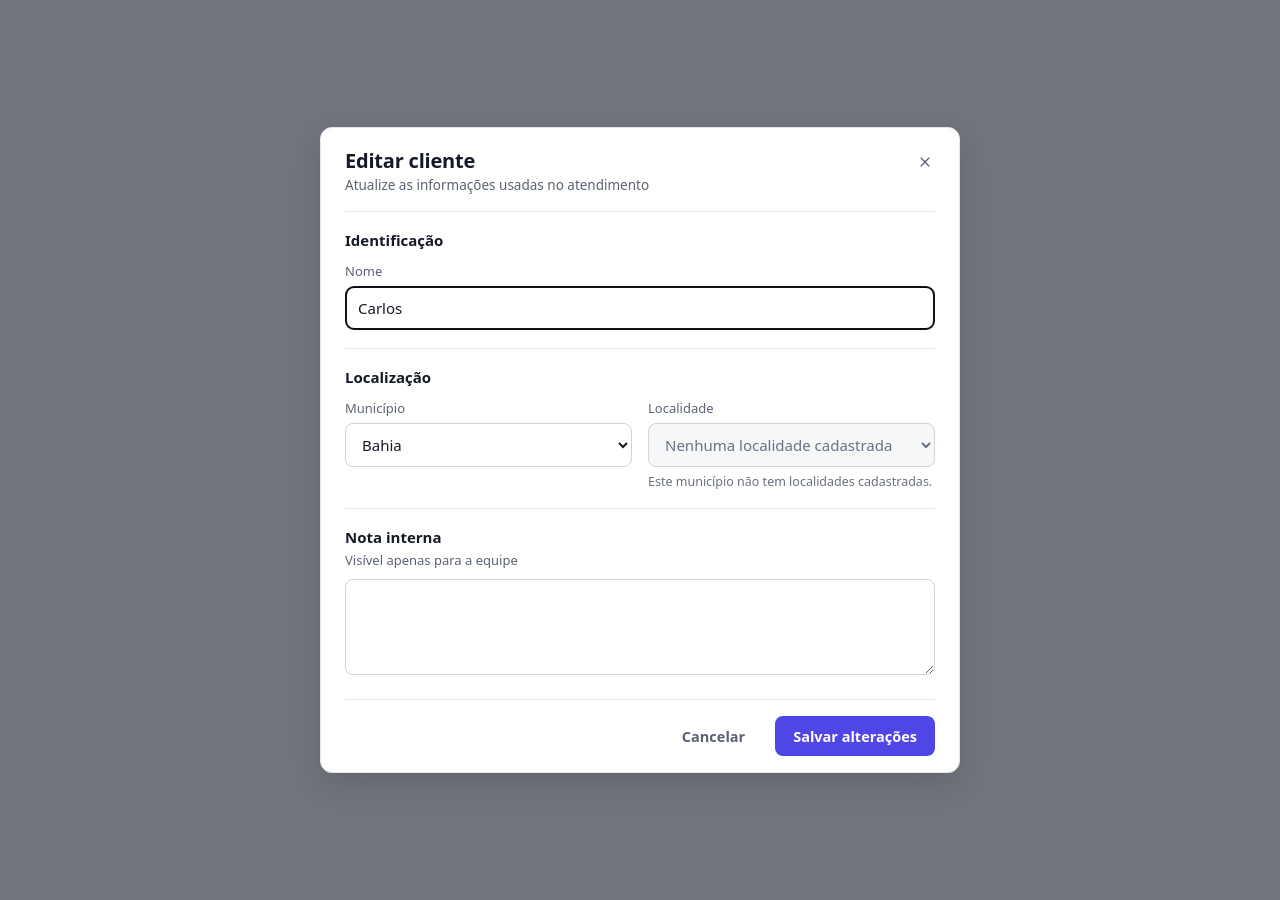
EditContactModal › shows an error message and keeps the modal open when saving fails
In the field labelled "Nome": (640, 308) [345,286,935,330], type " Silva"
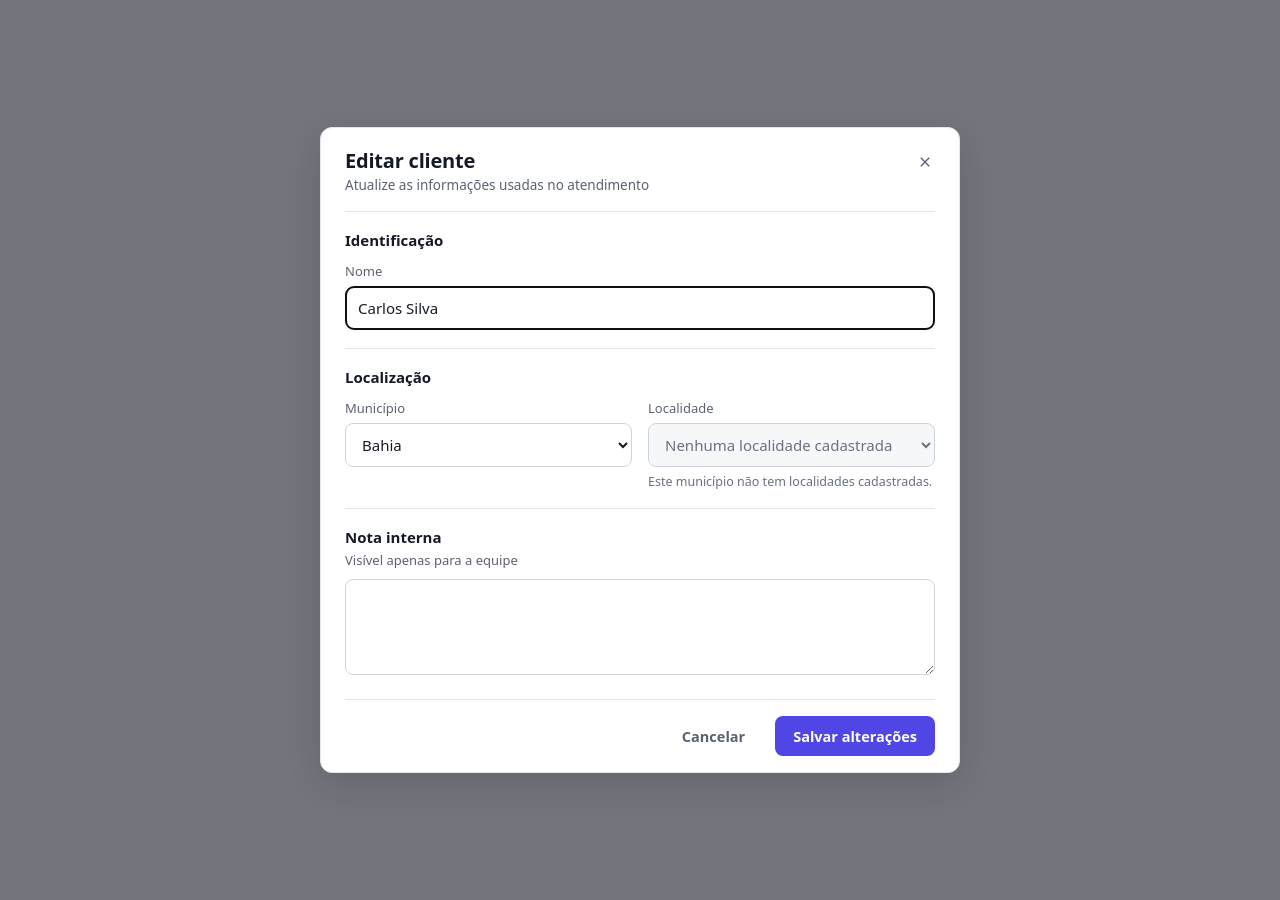
Click the button "Salvar alterações": (855, 736) [775,716,935,756]
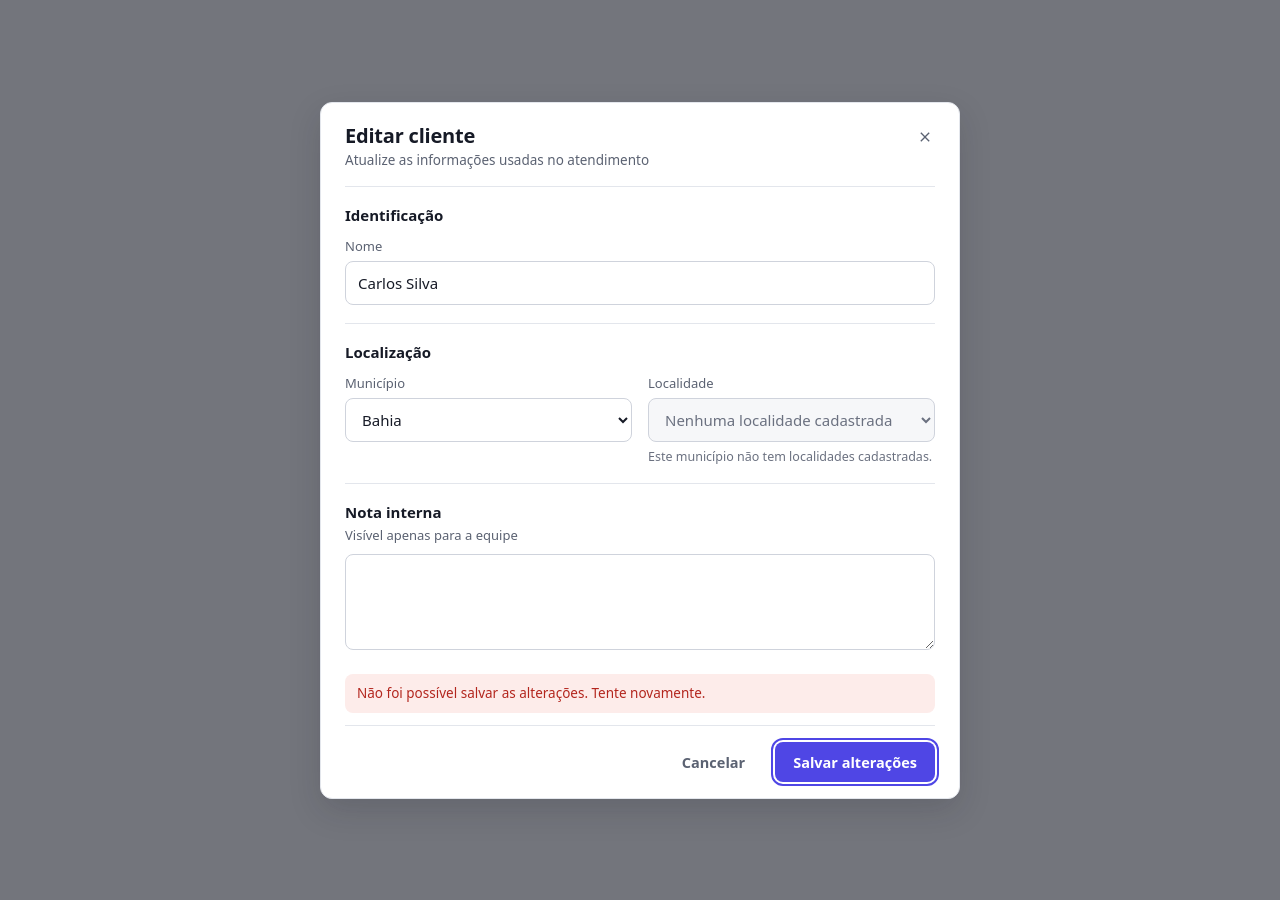
Check: the text "Não foi possível salvar as alterações. Tente novamente." is shown, box [345,674,935,712]
